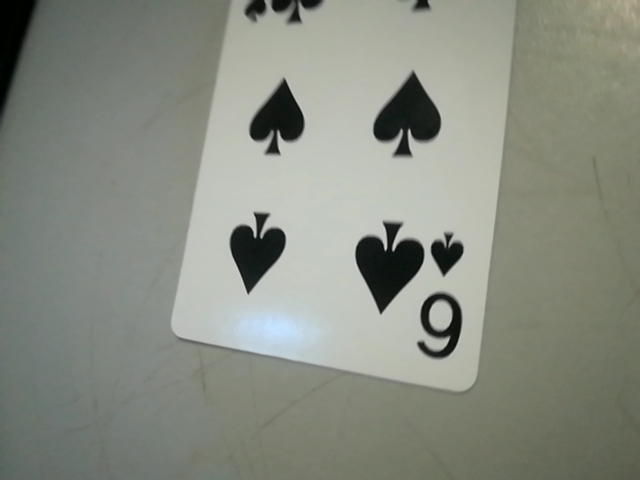ht 6: (412, 222, 477, 378)
